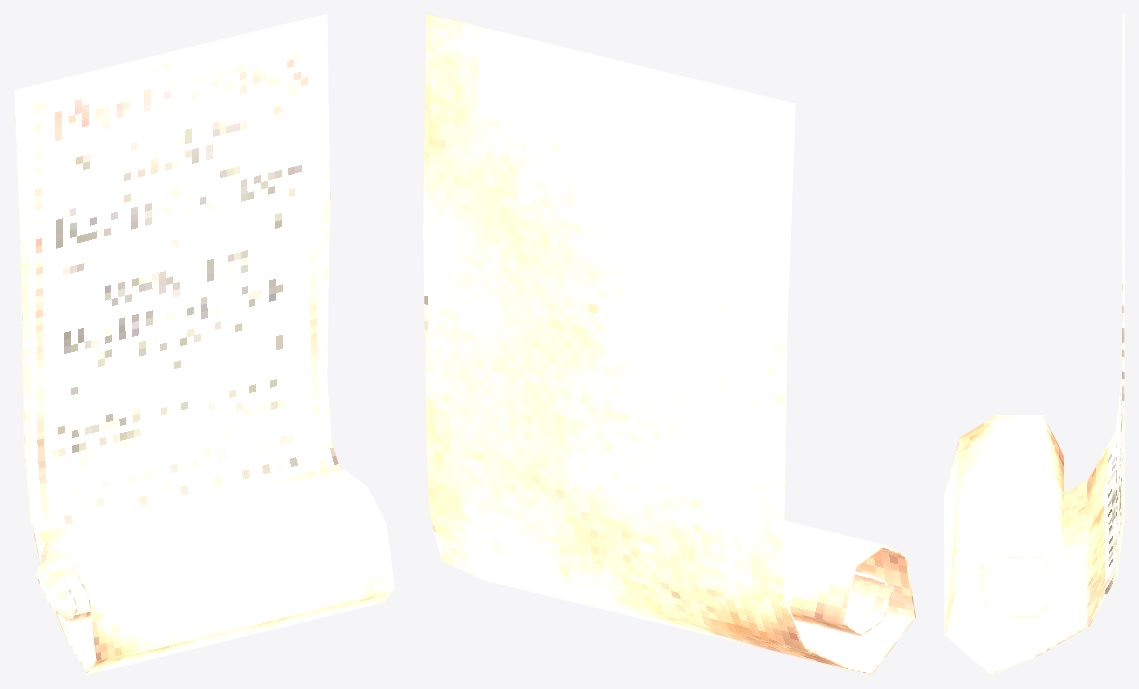
File: scroll_1.glb
3 views of the same model, side by side, from view 1: azimuth 30°, elevation 25°; view 2: azimuth 150°, elevation 25°; view 3: azimuth 270°, elevation 25° (orthographic). The views are drawn at different scales.
Visible parts, largest first — view 1: Scroll_1; view 2: Scroll_1; view 3: Scroll_1.
Part boxes in pixels (x1=…): Scroll_1: x1=14, y1=14, x2=394, y2=674; Scroll_1: x1=423, y1=14, x2=915, y2=674; Scroll_1: x1=944, y1=14, x2=1124, y2=674.
Bounding box in the file's own units: 1.47 × 2.29 × 0.7234.
